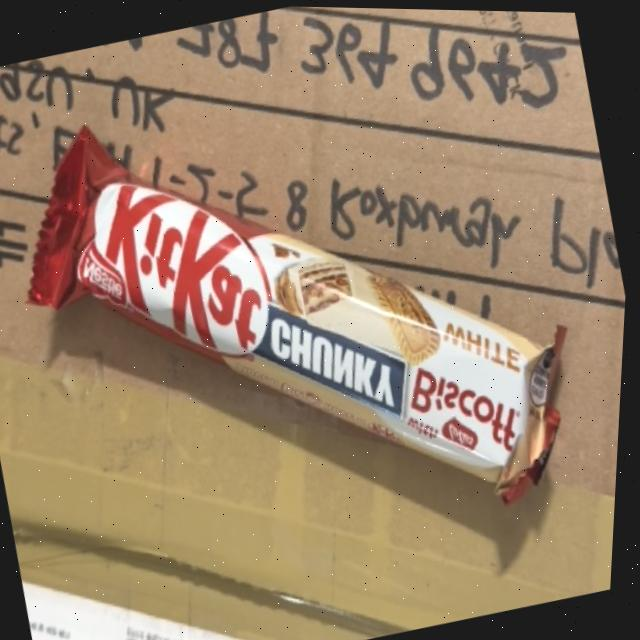chocolate: (0, 15, 627, 607)
